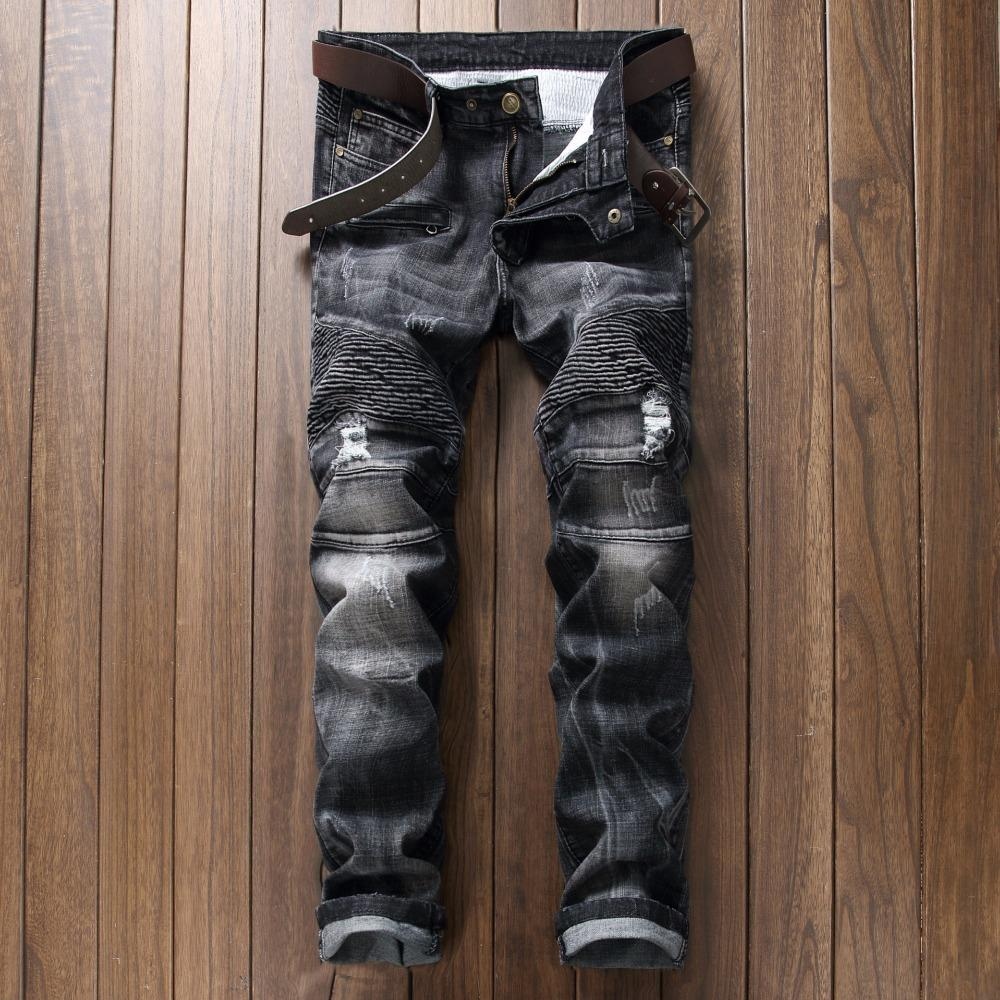Jeans: (278, 21, 703, 961)
